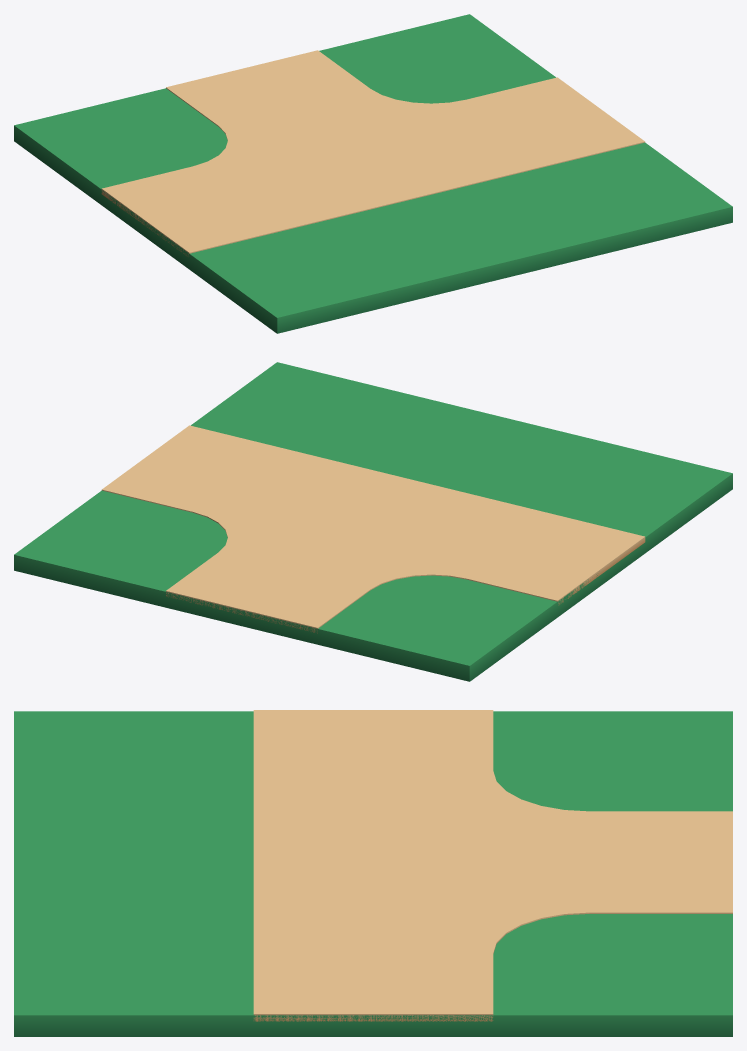
The model's file is camino_t.glb.
3 renders of one model, top to bottom at view 1: azimuth 30°, elevation 25°; view 2: azimuth 150°, elevation 25°; view 3: azimuth 270°, elevation 25°, orthographic. The views are drawn at different scales.
Parts seen in each view (by area): view 1: camino_t; view 2: camino_t; view 3: camino_t.
Boxes of the visible parts, bbox=[...] form: camino_t: bbox=[14, 14, 732, 333]; camino_t: bbox=[14, 362, 732, 681]; camino_t: bbox=[14, 710, 732, 1036].
Size of the model in its own units: 6 by 0.212 by 6.
Materials: 1 (1 with a texture image).
